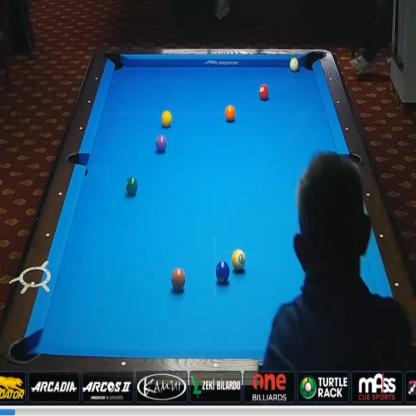Ball: (215, 260, 230, 285), (171, 268, 186, 292), (232, 249, 246, 272), (125, 176, 138, 196), (155, 134, 167, 152), (161, 109, 172, 128), (224, 104, 236, 121), (259, 84, 269, 100), (290, 57, 298, 72)
